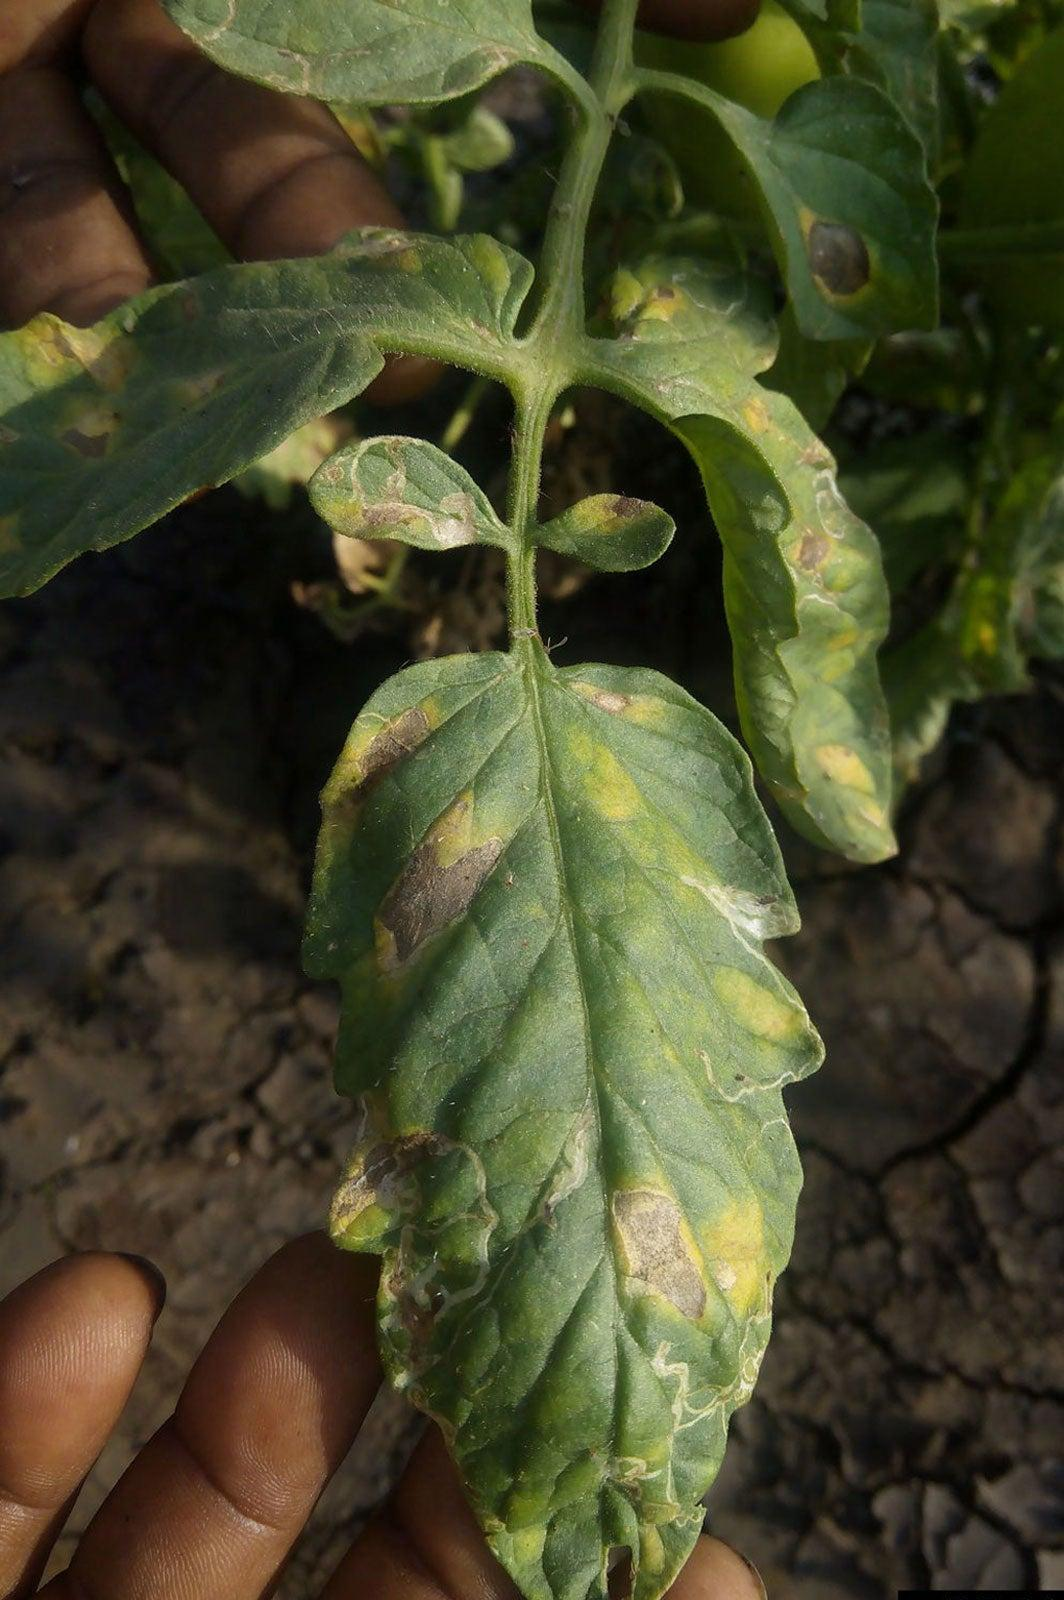root_rot: (107, 127, 976, 1535)
